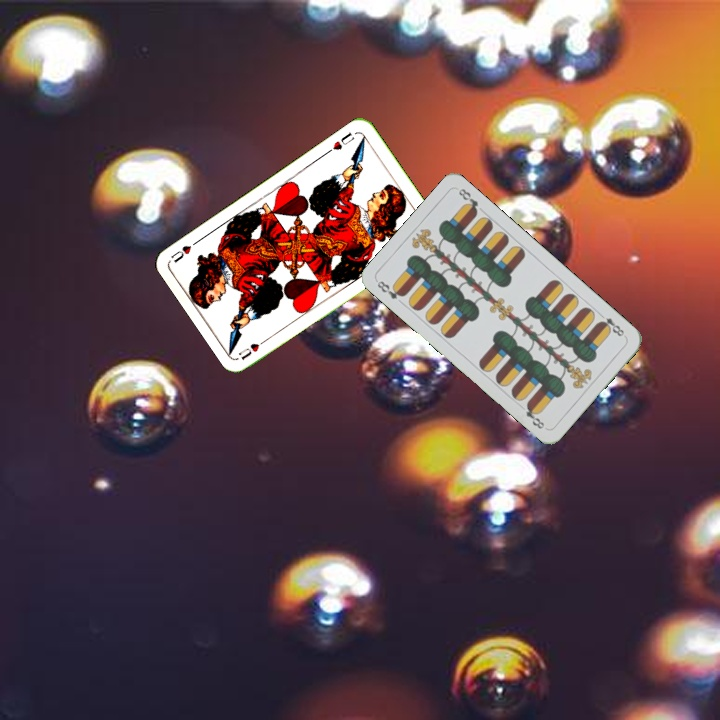E8: (595, 309, 628, 340), (373, 277, 407, 302)
HU: (234, 334, 271, 362), (323, 128, 357, 156)
